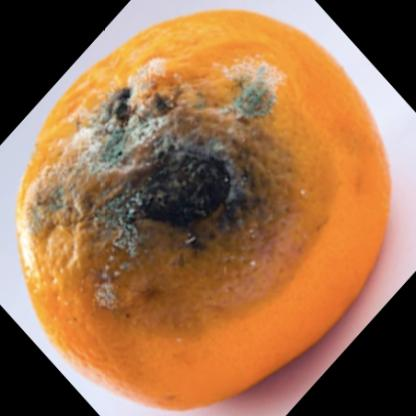rotten: (19, 9, 390, 414)
